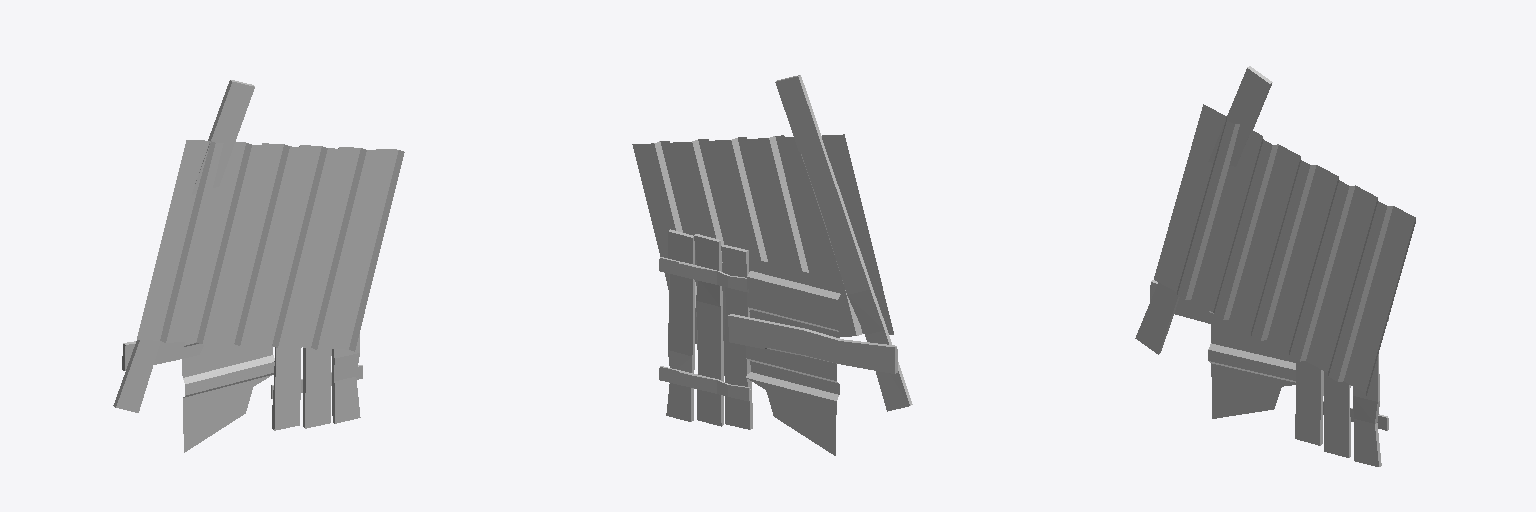
The picture shows the model from 3 angles: view 1: azimuth 30°, elevation 25°; view 2: azimuth 150°, elevation 25°; view 3: azimuth 330°, elevation 25°; orthographic projection.
Parts seen in each view (by area): view 1: Debris_Pile_Cube.098; view 2: Debris_Pile_Cube.098; view 3: Debris_Pile_Cube.098.
Part boxes in pixels (bbox=[...]): Debris_Pile_Cube.098: bbox=[113, 80, 404, 452]; Debris_Pile_Cube.098: bbox=[632, 75, 912, 455]; Debris_Pile_Cube.098: bbox=[1135, 66, 1415, 466].
Bounding box in the file's own units: 432 × 535 × 33.33.